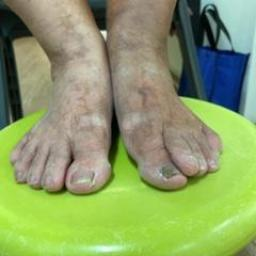Front View -Both Feet-: (1, 13, 244, 216)
